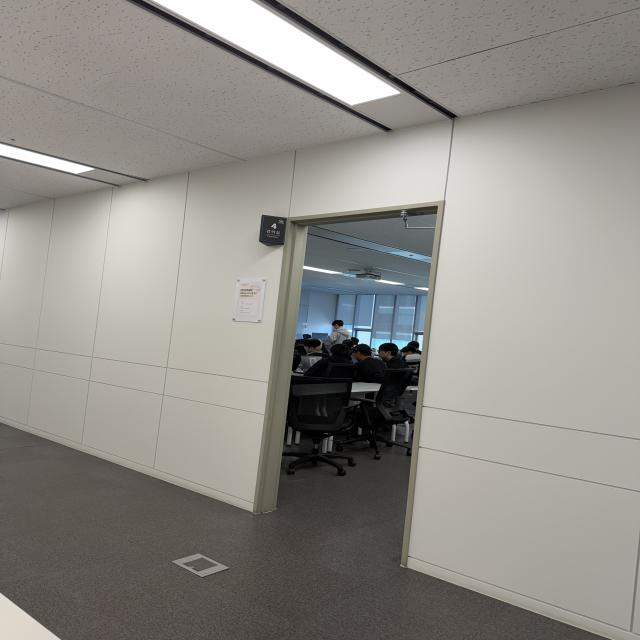sign: (260, 215, 286, 245)
